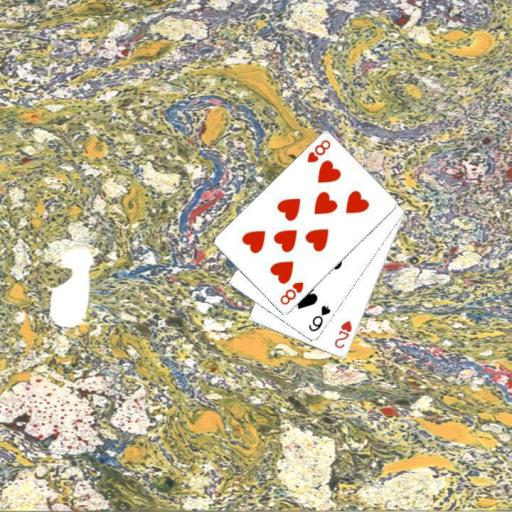2H: (332, 317, 354, 350)
6S: (305, 302, 332, 334)
8H: (277, 279, 305, 306), (304, 137, 332, 164)
